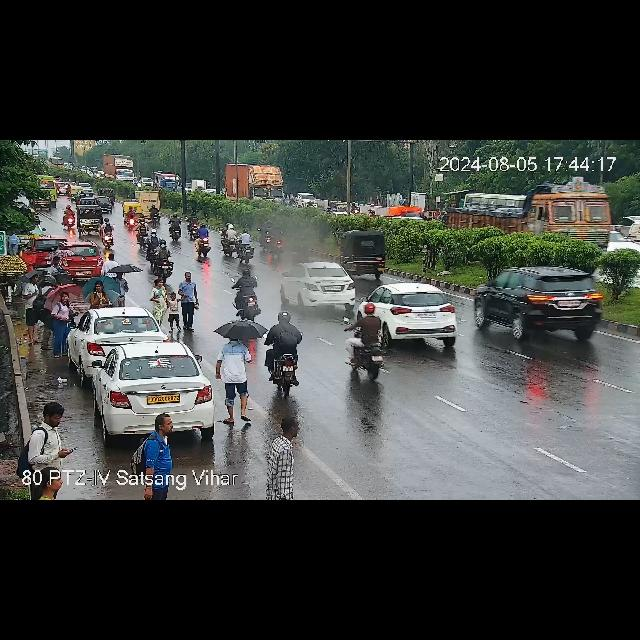bus: (30, 174, 58, 204), (151, 173, 179, 189), (48, 156, 64, 170)
car: (76, 322, 218, 440), (473, 265, 605, 343), (69, 306, 169, 379), (352, 282, 461, 348), (282, 262, 358, 310), (44, 242, 104, 284), (342, 230, 388, 274), (20, 238, 72, 270), (77, 205, 103, 235), (120, 200, 144, 222), (295, 192, 321, 210), (95, 196, 115, 214), (98, 187, 116, 203), (138, 176, 154, 188)
motorcycle: (261, 412, 313, 500), (346, 306, 388, 384), (263, 314, 305, 381), (234, 260, 264, 318), (150, 238, 174, 280), (235, 227, 255, 263), (196, 222, 214, 262), (220, 222, 238, 260), (166, 212, 184, 244), (98, 217, 115, 249), (61, 202, 77, 230), (136, 220, 150, 248), (148, 204, 160, 226)
person: (21, 402, 79, 498), (131, 414, 177, 500), (214, 338, 252, 426), (44, 280, 80, 356), (19, 271, 43, 347), (177, 273, 200, 331), (109, 268, 129, 310), (151, 278, 167, 324), (90, 278, 108, 314), (166, 288, 178, 334), (102, 250, 120, 278)
truck: (441, 182, 611, 248), (223, 162, 284, 206), (102, 154, 136, 184), (133, 190, 163, 220)
